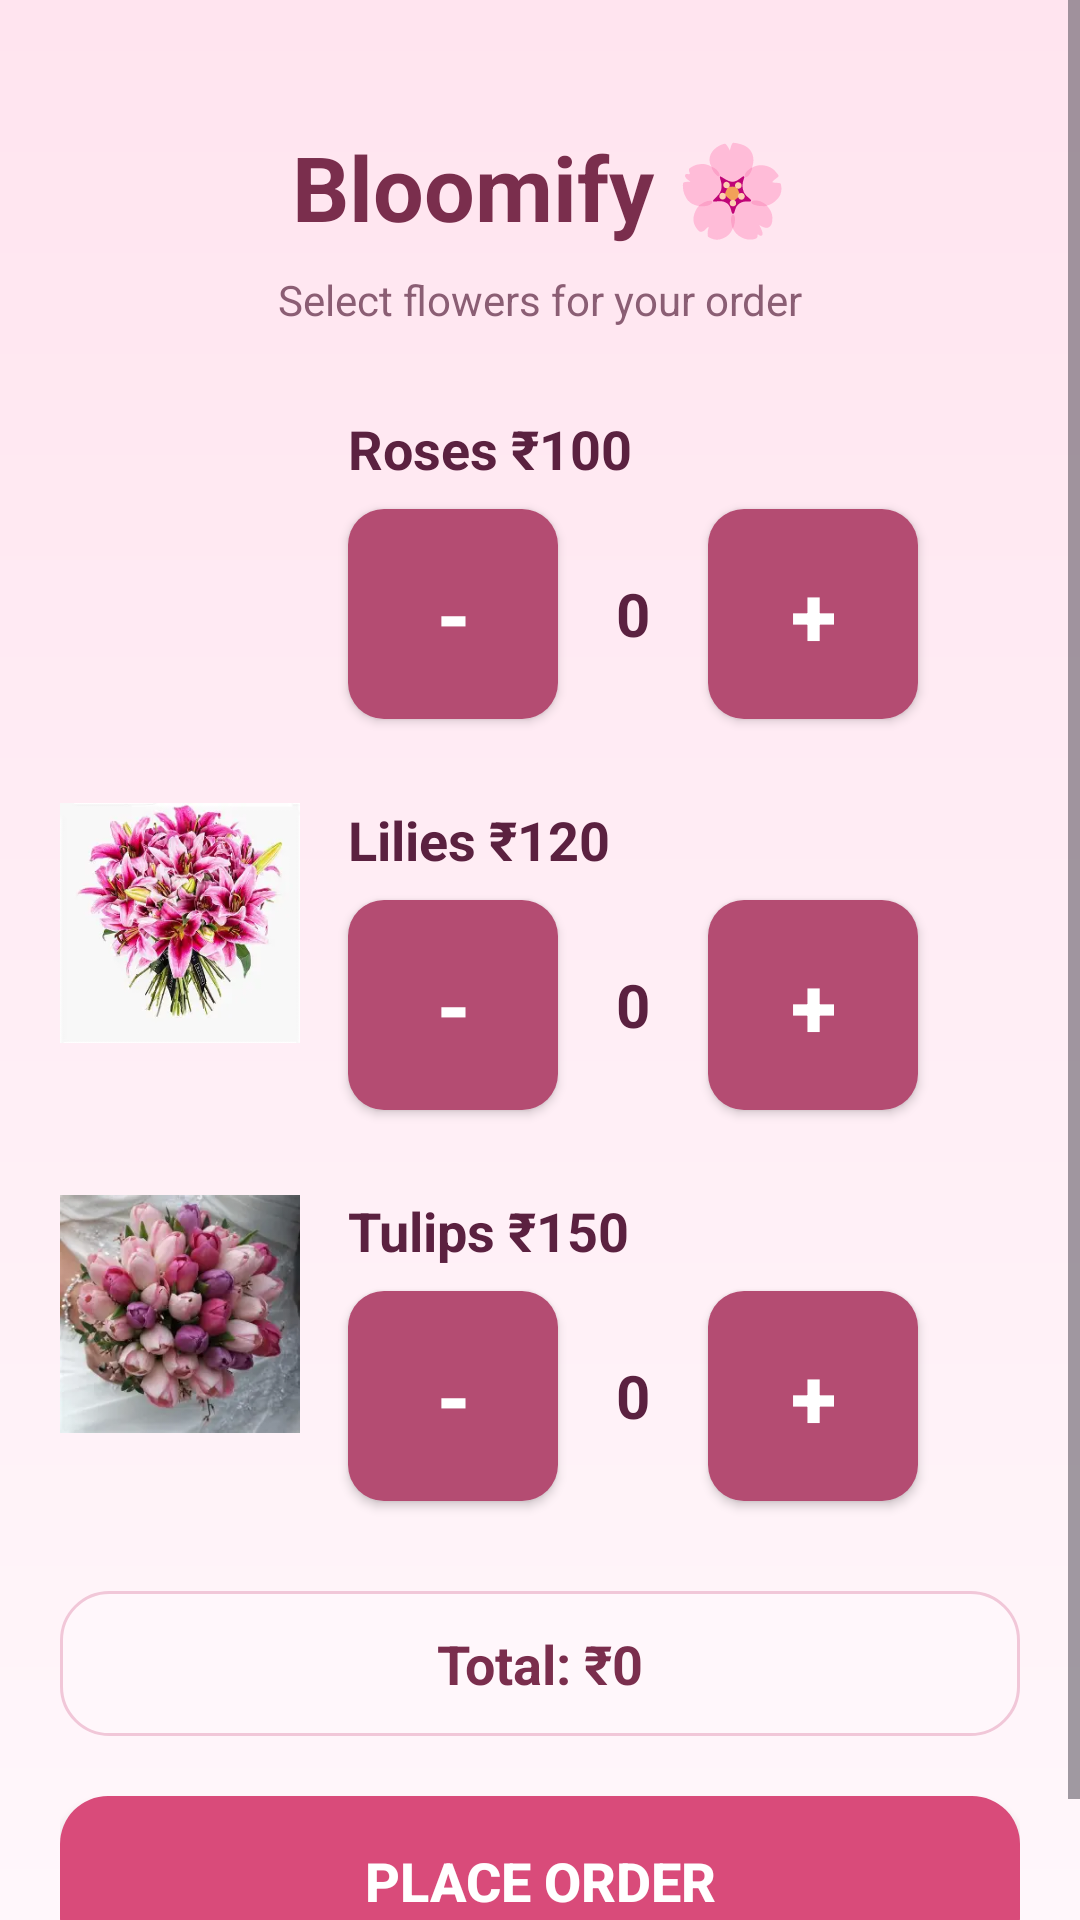

Icons on this 1080px x 1920px Android screen, each with the point to tap as (x,y):
lilly: (180,911)
